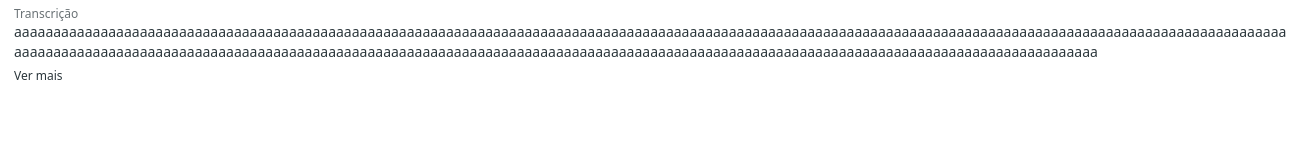
Test case: AudioTranscricao › texto que passa das 4 linhas abre recolhido com Ver mais, e Ver menos volta
Click the button "Ver mais".
click(38, 76)  # box [14, 68, 63, 84]
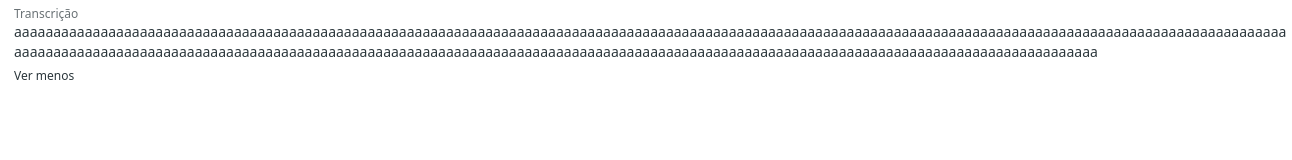
Click the button "Ver menos".
click(44, 76)  # box [14, 68, 74, 84]
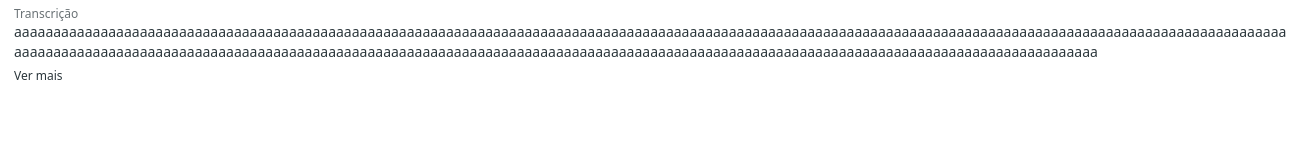
Expected: the button "Ver mais" is shown, [14, 68, 63, 84]
